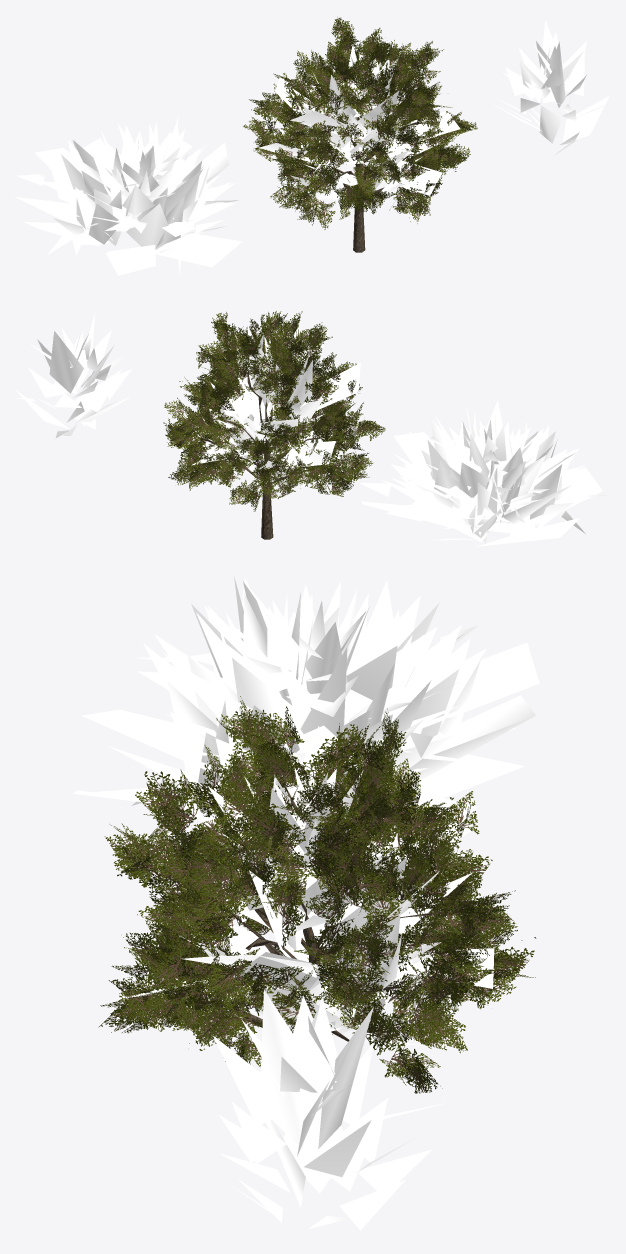
Rendered from tree.glb.
3 views of the same model, one above another, from view 1: azimuth 30°, elevation 25°; view 2: azimuth 150°, elevation 25°; view 3: azimuth 270°, elevation 25° (orthographic). The views are drawn at different scales.
Parts seen in each view (by area): view 1: Bark_93; view 2: Bark_93; view 3: Bark_93.
Part boxes in pixels (<box>): Bark_93: <box>14,17,609,275</box>; Bark_93: <box>14,311,608,546</box>; Bark_93: <box>73,576,539,1230</box>.
Bounding box in the file's own units: 201 × 76.14 × 74.09.
Materials: 3 (2 with a texture image).
